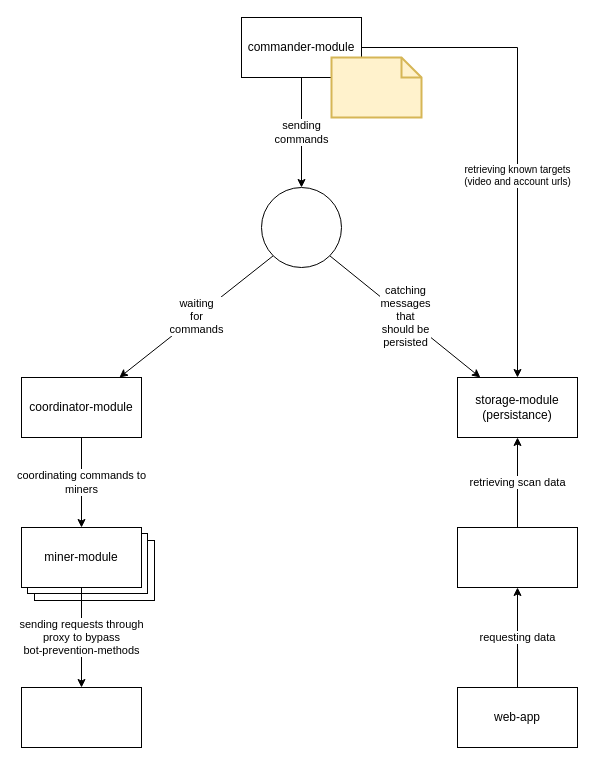
This 595x778 diagram has some shape labels left out. The shapes that lost their labels are listed below. From the top down, each one's centre as x and y in pixels, then its label:
At pixel 376 87: "Tasks: scheduling commands. Issuing manual commands".
At pixel 301 227: "Message Broker (redis)".
At pixel 517 557: "web-api".
At pixel 81 717: "proxy".
